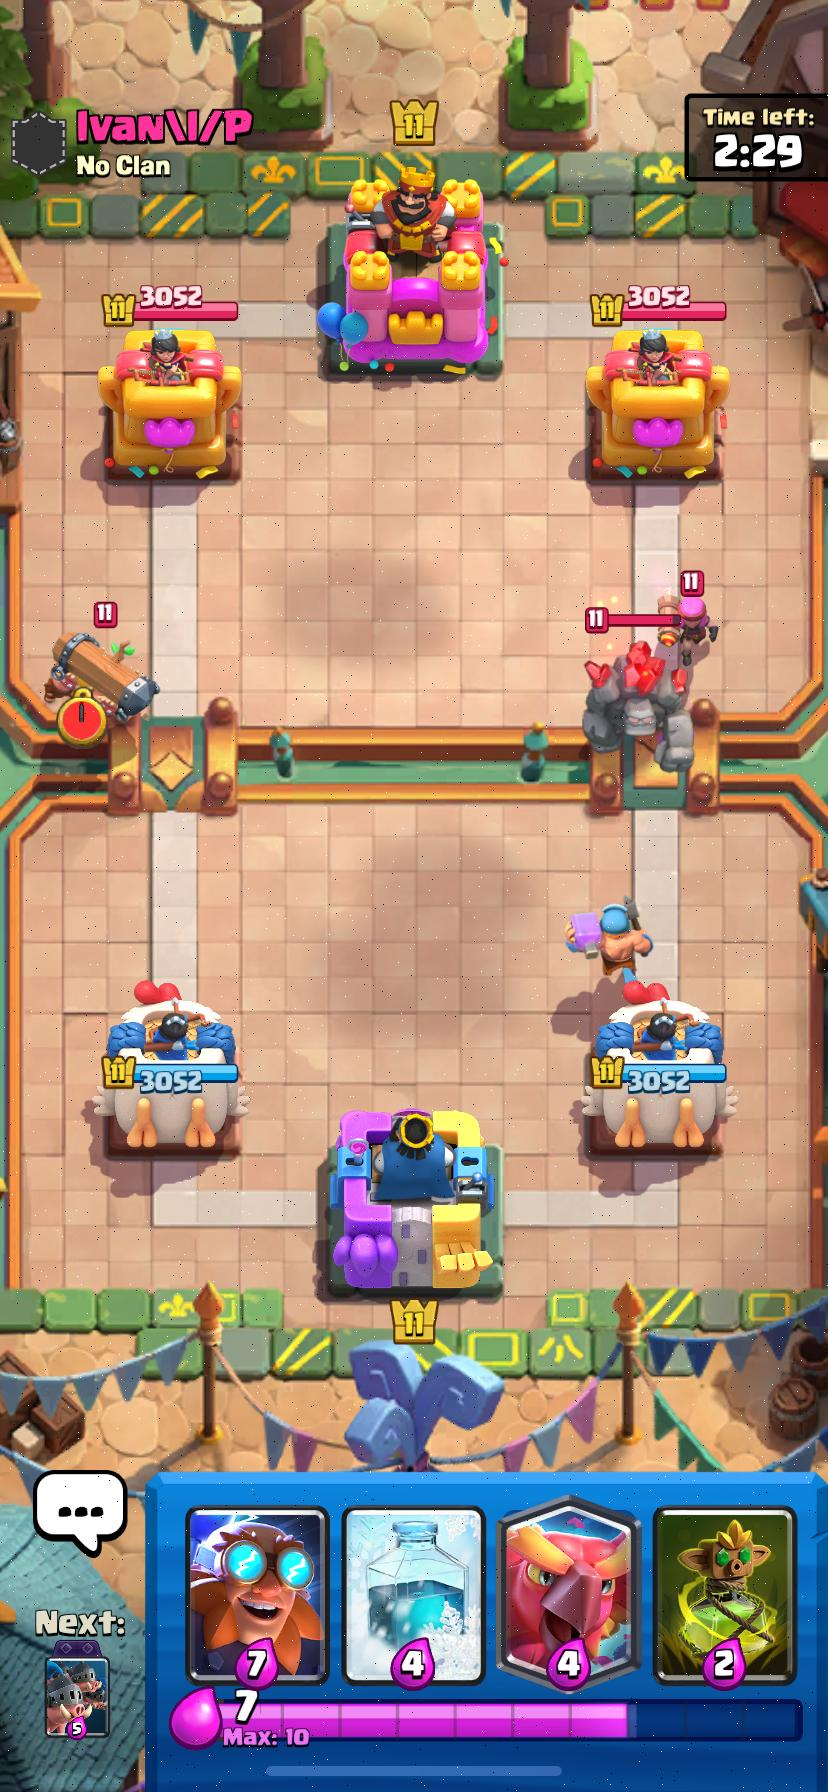EBRam: (45, 630, 160, 720)
EFirecrack: (656, 591, 717, 667)
EGolem: (582, 640, 693, 773)
EKingTower: (318, 169, 502, 376)
EnemyPrincessTower: (98, 330, 241, 479), (586, 330, 729, 479)
OLumberjack: (566, 899, 651, 976)
OwnKingTower: (328, 1109, 502, 1296)
OwnPrincessTower: (583, 981, 735, 1151), (94, 982, 247, 1149)
